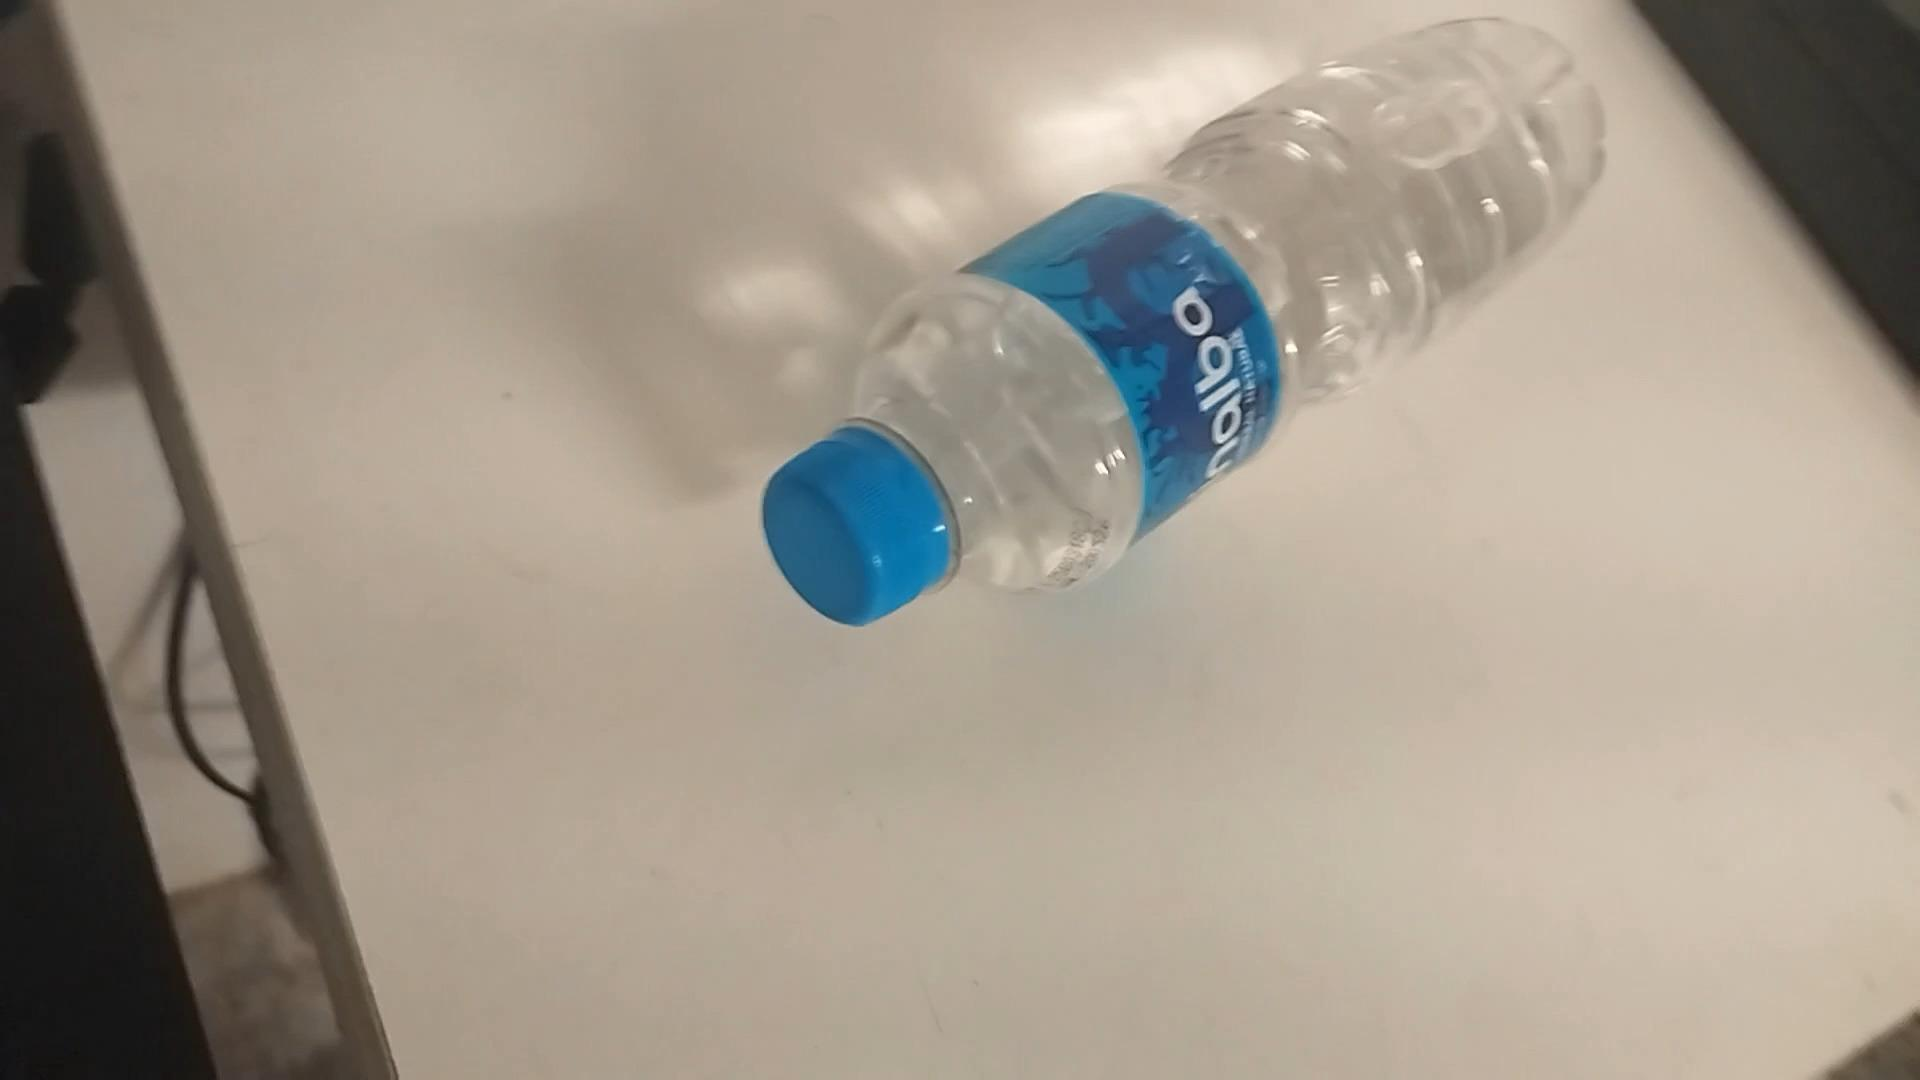agua: (775, 16, 1589, 633)
